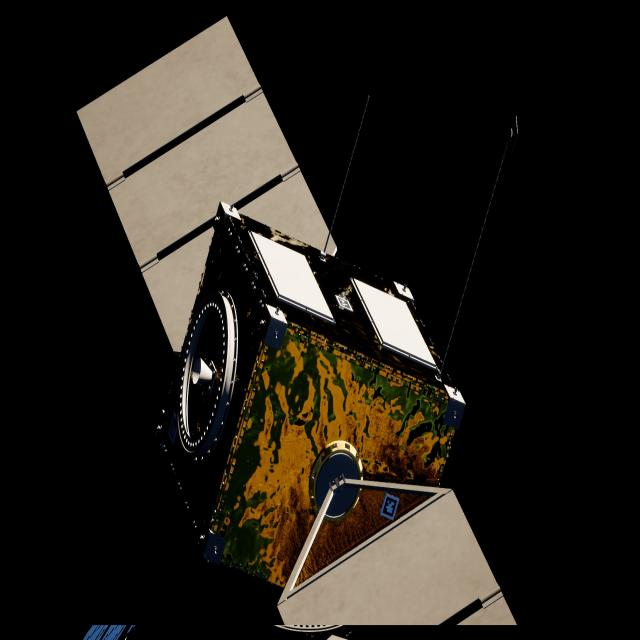satellite: (78, 18, 512, 631)
